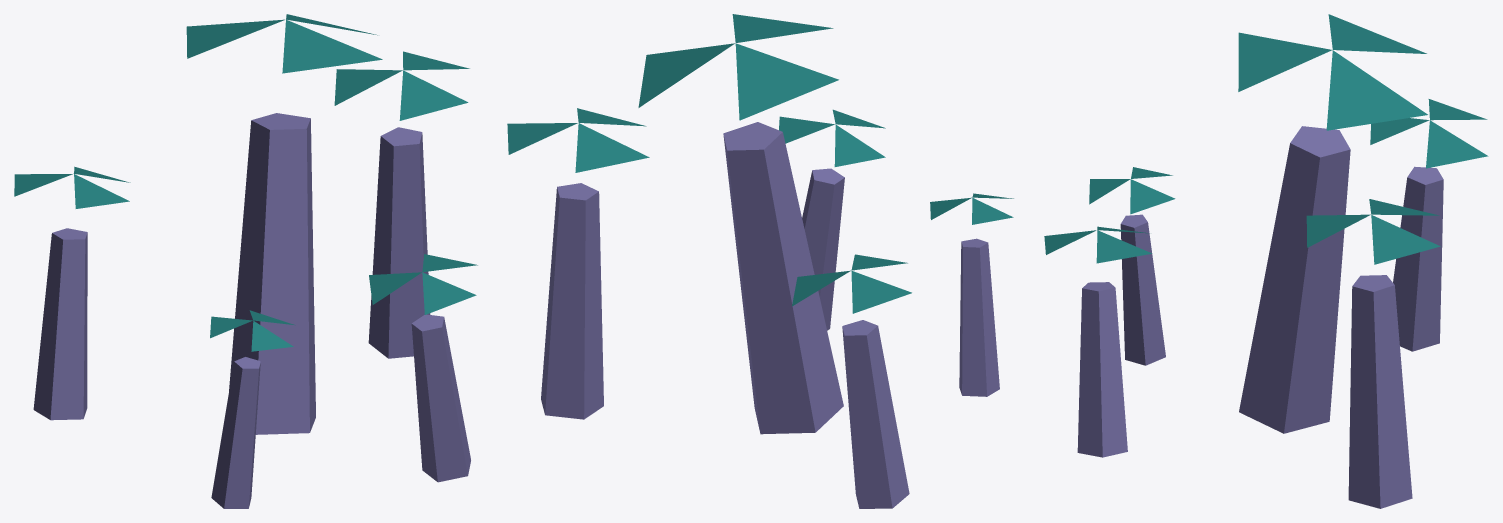
Rendered from plant_glow_shroom_cyan.fbx.
3 views of the same model, side by side, from view 1: azimuth 30°, elevation 25°; view 2: azimuth 150°, elevation 25°; view 3: azimuth 270°, elevation 25° (orthographic).
Visible parts, largest first — view 1: plant_glow_shroom_cyan; view 2: plant_glow_shroom_cyan; view 3: plant_glow_shroom_cyan.
Part boxes in pixels (<box>): plant_glow_shroom_cyan: <box>14,14,477,508</box>; plant_glow_shroom_cyan: <box>507,14,1013,508</box>; plant_glow_shroom_cyan: <box>1044,14,1488,508</box>.
Bounding box in the file's own units: 464 × 396 × 416.
1 material, 1 textured.
